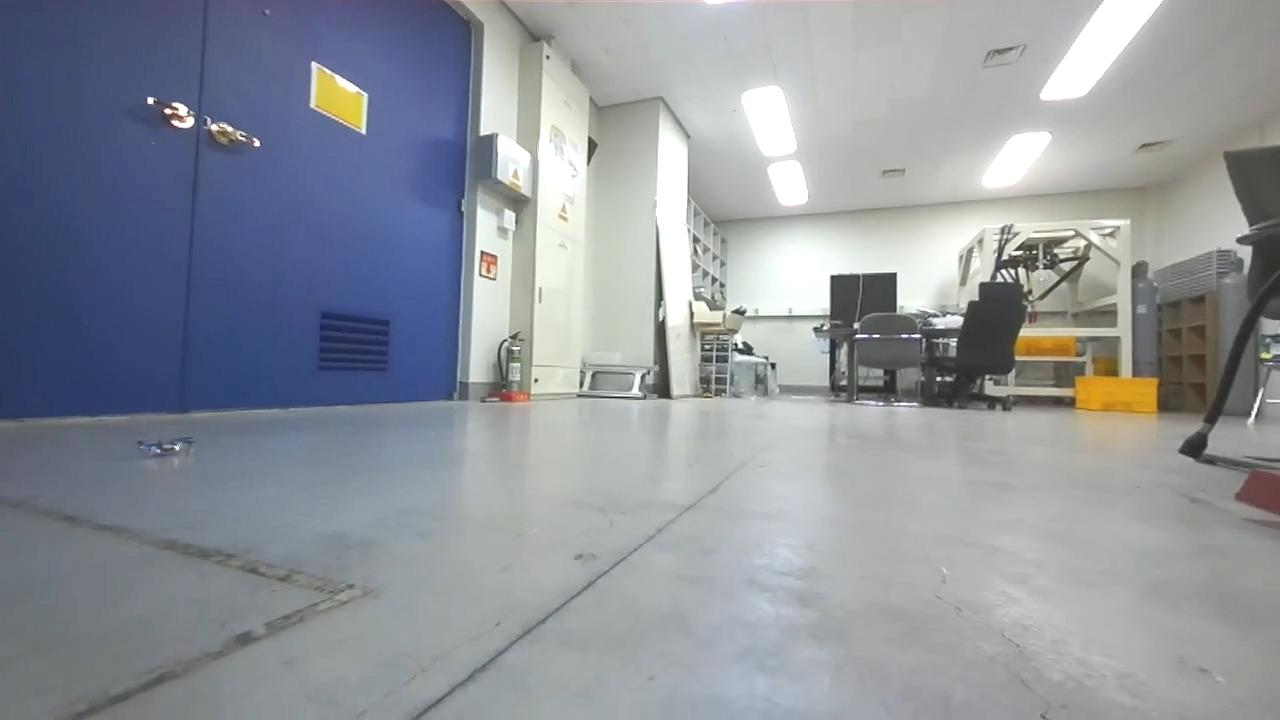crazyflie: (122, 431, 198, 462)
